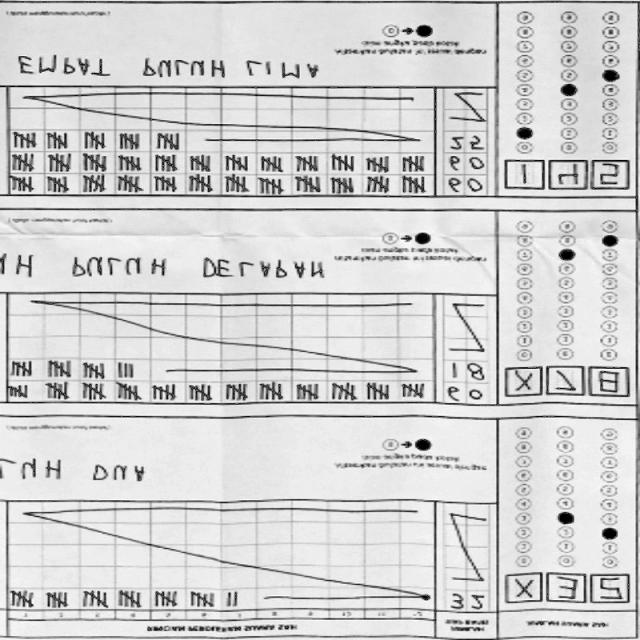Suara: (500, 154, 633, 198), (502, 368, 638, 406), (504, 574, 635, 607)
